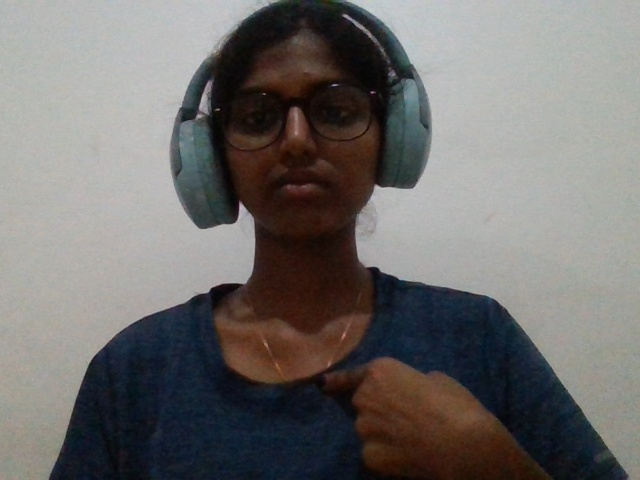Me: (293, 338, 540, 480)
